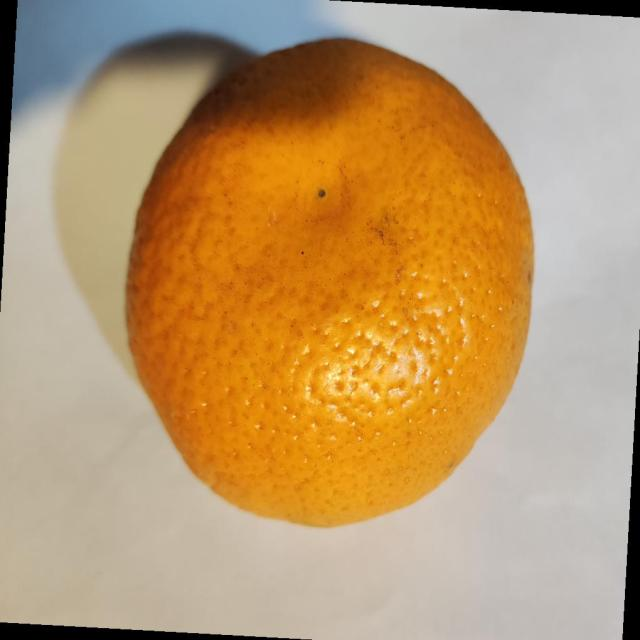fresh orange: (123, 36, 535, 528)
